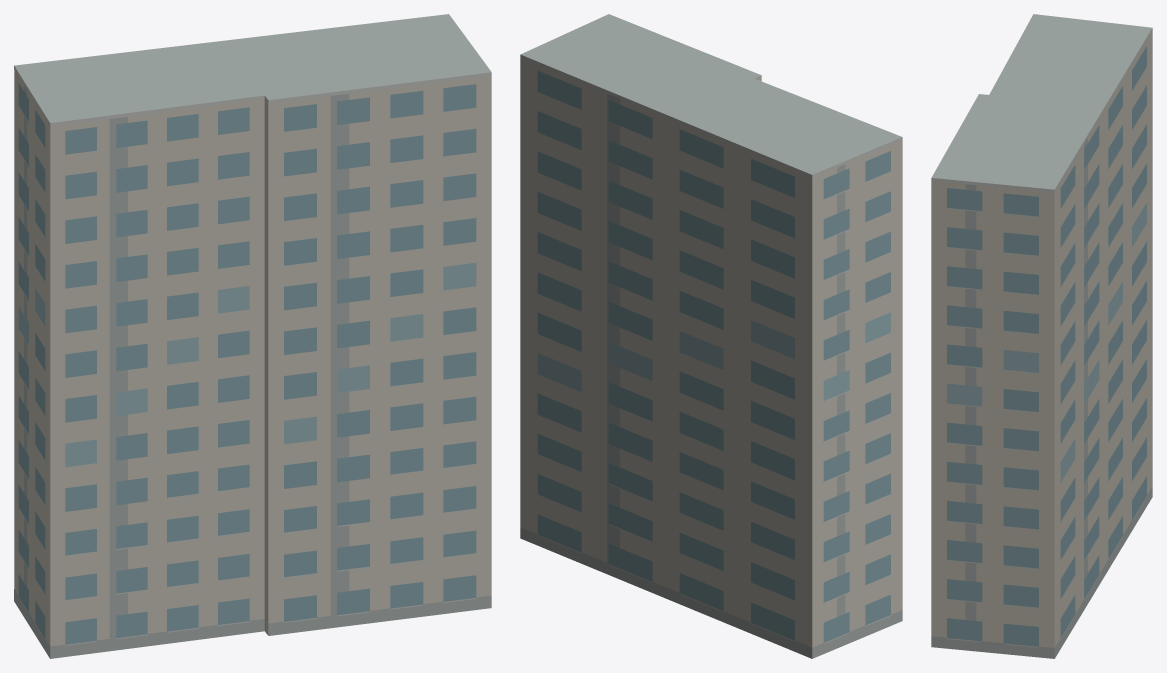
Rendered from survey-upis-32889758.glb.
3 renders of one model, left to right at view 1: azimuth 30°, elevation 25°; view 2: azimuth 150°, elevation 25°; view 3: azimuth 270°, elevation 25°, orthographic. The views are drawn at different scales.
Parts seen in each view (by area): view 1: survey-upis-32889758.tmp; view 2: survey-upis-32889758.tmp; view 3: survey-upis-32889758.tmp.
Part boxes in pixels (<box>): survey-upis-32889758.tmp: <box>14,14,491,658</box>; survey-upis-32889758.tmp: <box>520,14,902,658</box>; survey-upis-32889758.tmp: <box>931,14,1152,658</box>.
Bounding box in the file's own units: 29.39 × 36.6 × 15.65.
